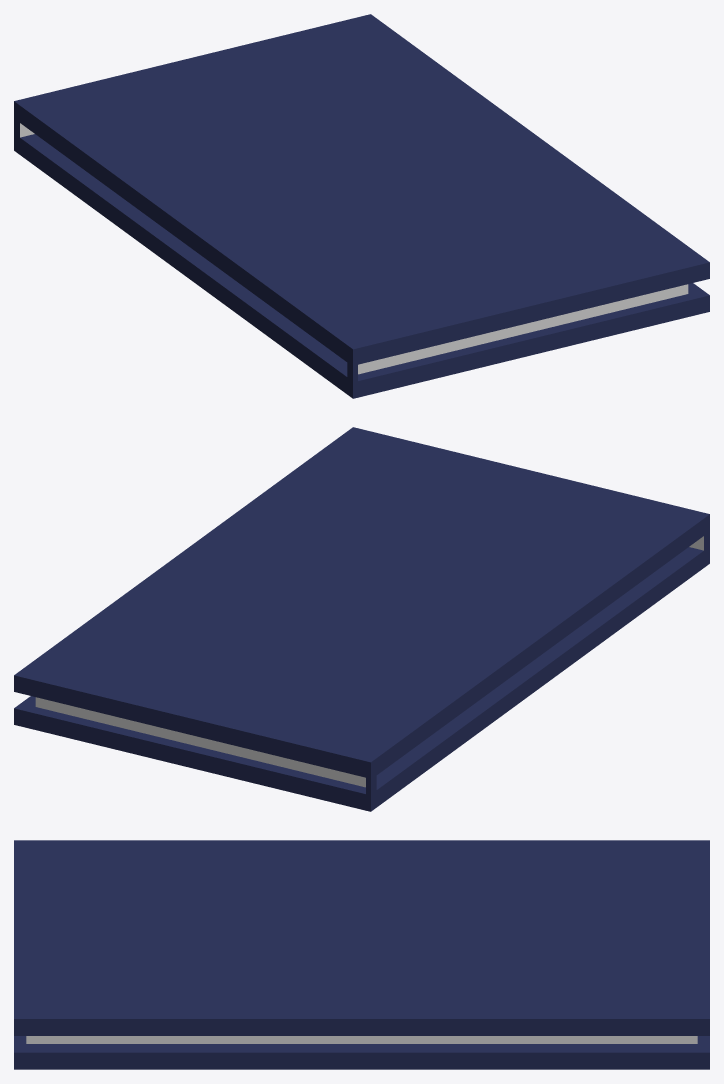
File: Caderno.fbx
3 views of the same model, one above another, from view 1: azimuth 30°, elevation 25°; view 2: azimuth 150°, elevation 25°; view 3: azimuth 270°, elevation 25° (orthographic). The views are drawn at different scales.
Visible parts, largest first — view 1: Cube; view 2: Cube; view 3: Cube.
Part boxes in pixels (bbox=[...]): Cube: bbox=[14, 14, 709, 398]; Cube: bbox=[14, 427, 709, 811]; Cube: bbox=[14, 840, 709, 1069].
Bounding box in the file's own units: 10.5 × 1.39 × 17.29.
